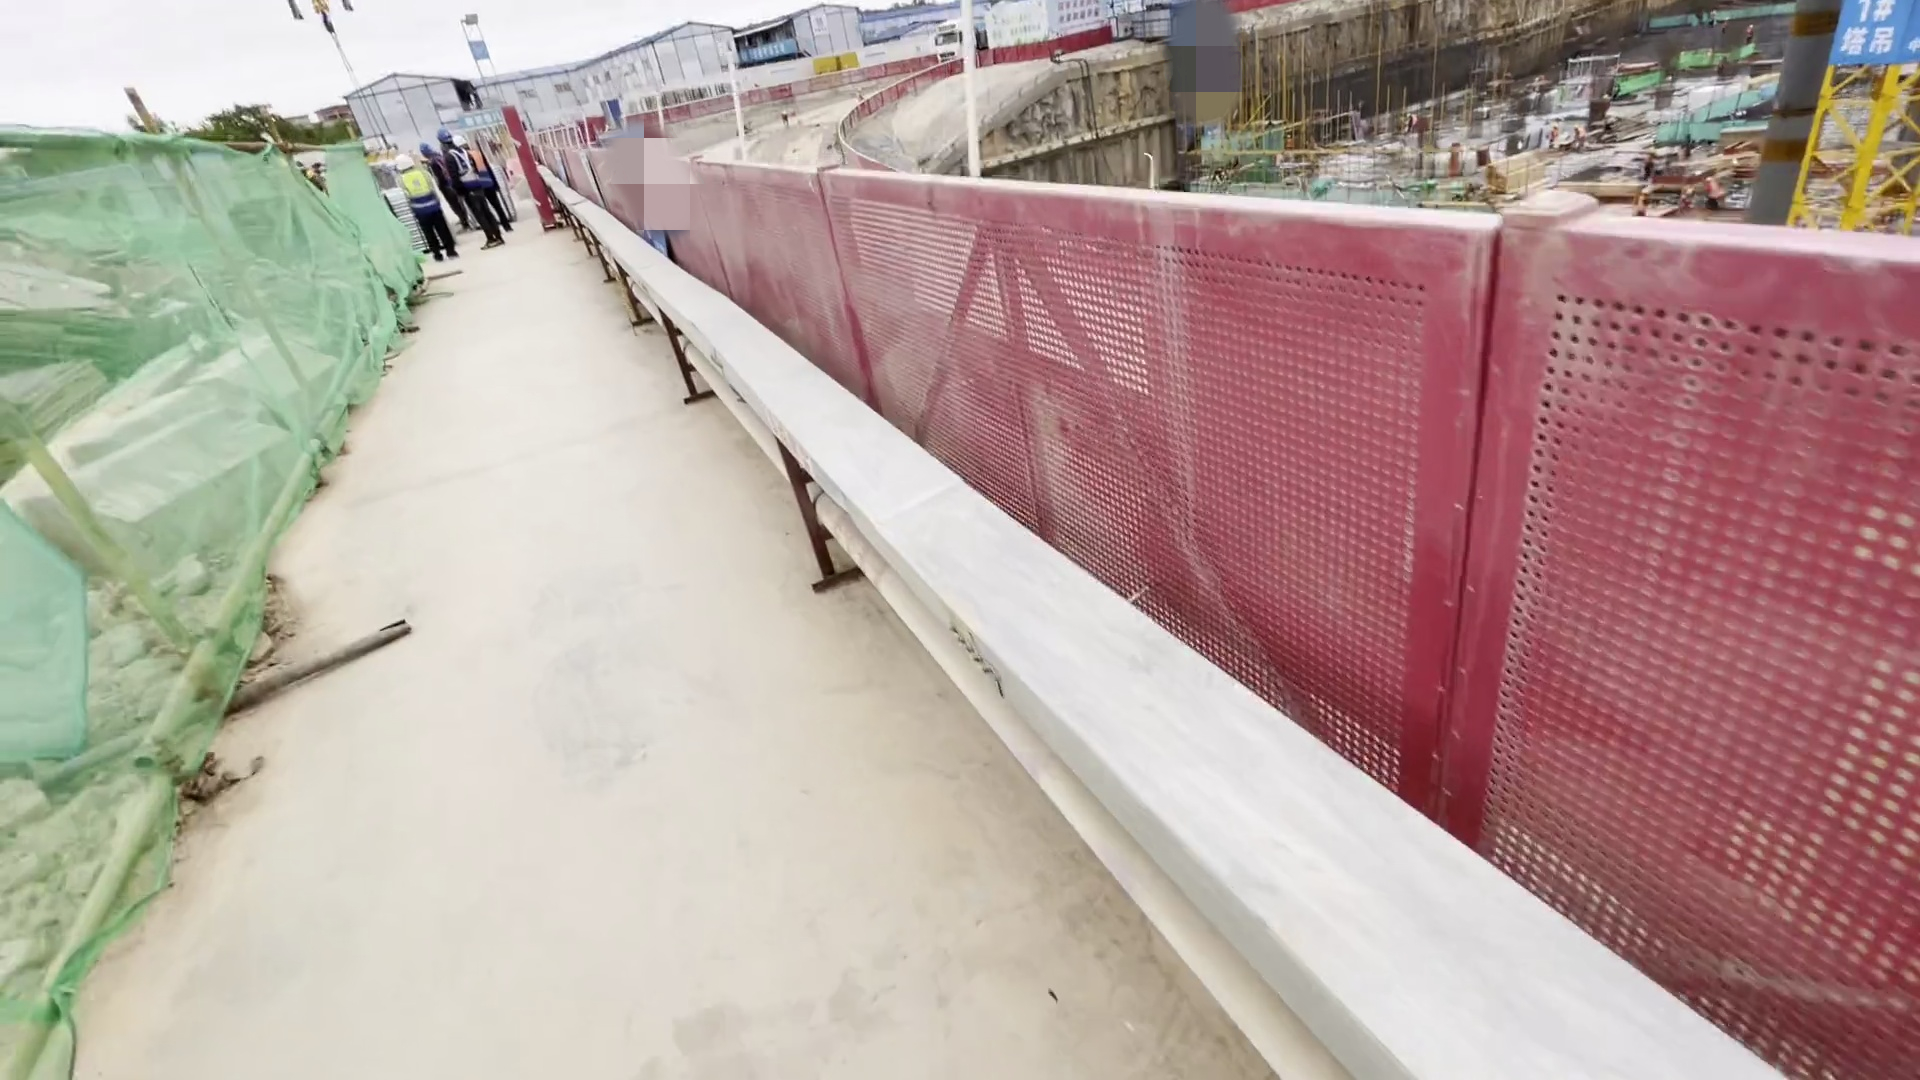fence: (526, 125, 1827, 1032)
helmet: (450, 137, 476, 159), (392, 152, 412, 172), (438, 129, 453, 145), (419, 140, 431, 158)
person: (432, 111, 501, 252), (389, 138, 451, 282), (446, 130, 513, 237)
vest: (396, 170, 444, 211), (444, 145, 487, 188), (470, 150, 495, 175)
